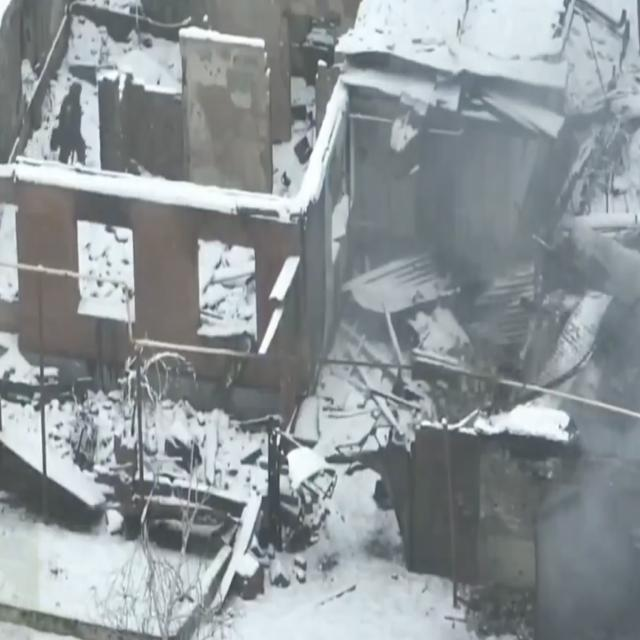infantry: (51, 80, 95, 166)
